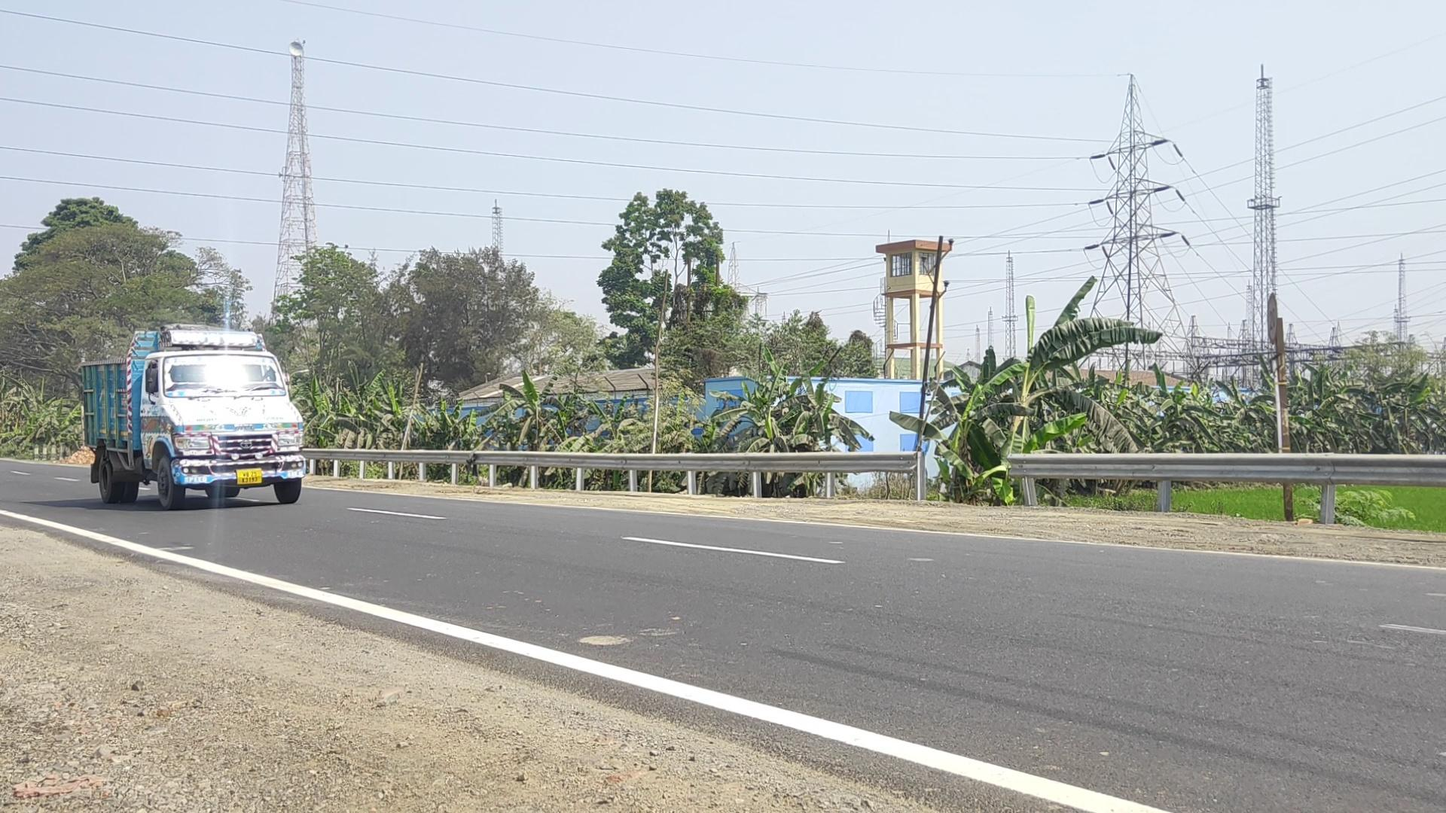truck: (79, 324, 307, 510)
